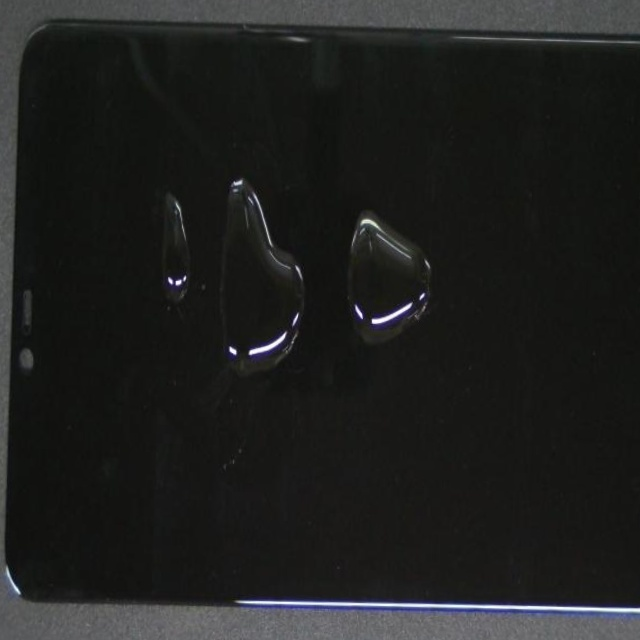oil: (204, 139, 640, 474), (123, 202, 458, 543), (71, 2, 252, 365)
